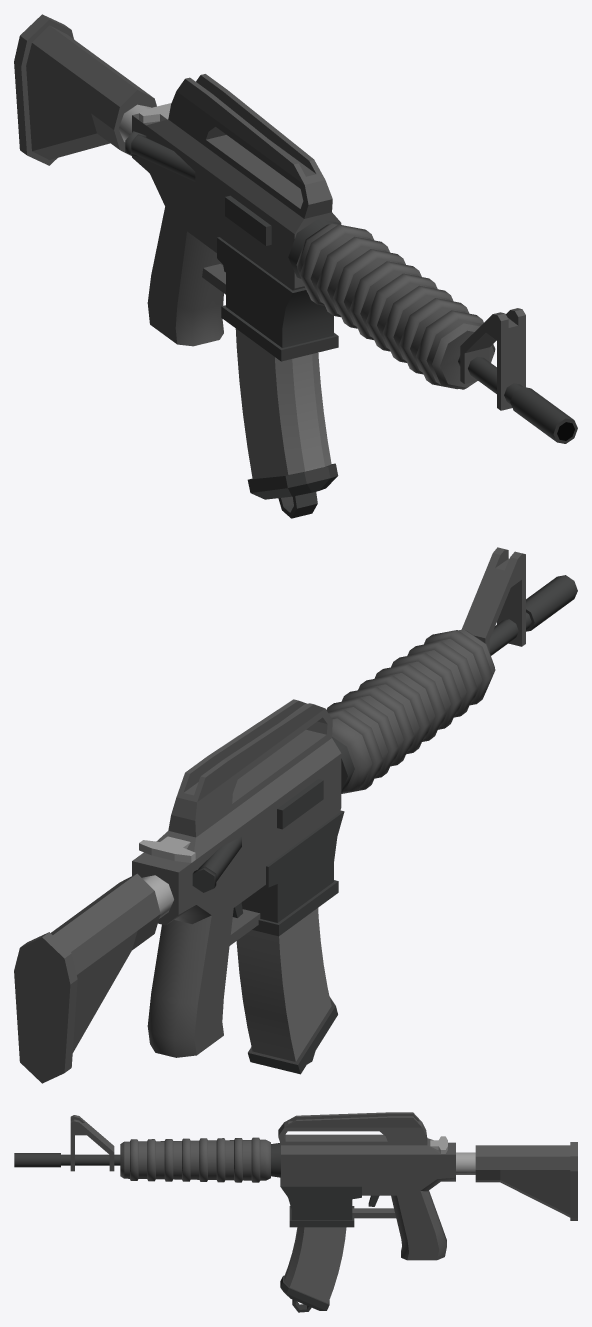
Rendered from wpn_rifle_001.fbx.
The picture shows the model from 3 angles, top to bottom: view 1: azimuth 30°, elevation 25°; view 2: azimuth 150°, elevation 25°; view 3: azimuth 270°, elevation 25°; orthographic projection. The views are drawn at different scales.
Parts seen in each view (by area): view 1: wpn_rifle_001; view 2: wpn_rifle_001; view 3: wpn_rifle_001.
Boxes of the visible parts, left/top/right/bottom form: wpn_rifle_001: left=14, top=14, right=577, bottom=518; wpn_rifle_001: left=14, top=547, right=577, bottom=1083; wpn_rifle_001: left=14, top=1112, right=577, bottom=1312.
Bounding box in the file's own units: 0.1127 × 0.4682 × 1.23.
